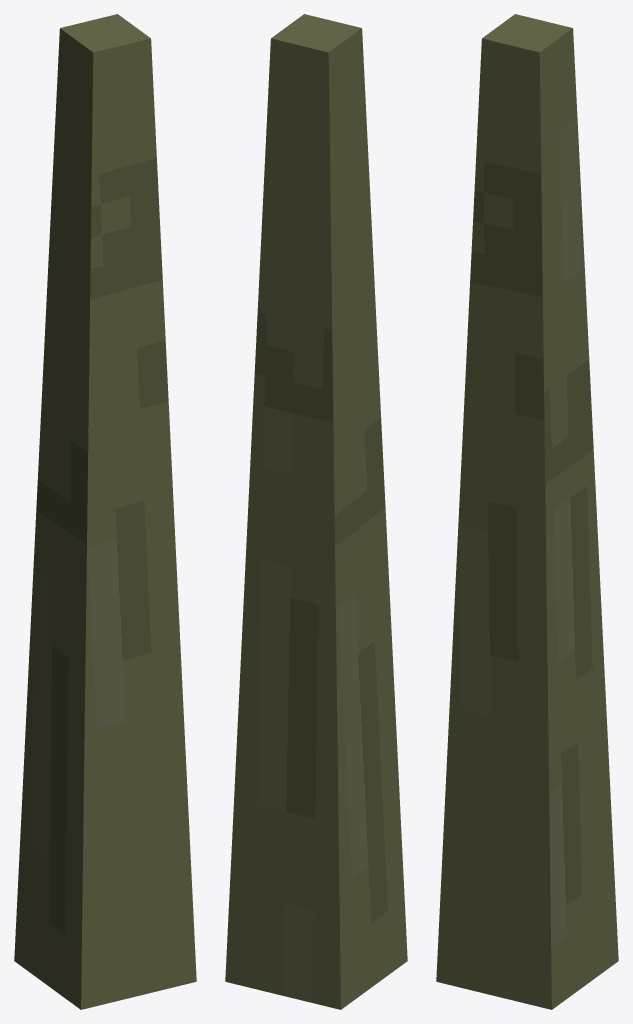
File: tree_low_lod.gltf
The picture shows the model from 3 angles, left to right: view 1: azimuth 30°, elevation 25°; view 2: azimuth 150°, elevation 25°; view 3: azimuth 330°, elevation 25°; orthographic projection.
Visible parts, largest first — view 1: trunk; view 2: trunk; view 3: trunk.
Part boxes in pixels (x1=…): trunk: x1=14, y1=14, x2=196, y2=1009; trunk: x1=225, y1=14, x2=407, y2=1009; trunk: x1=436, y1=14, x2=618, y2=1009.
Bounding box in the file's own units: 1 × 7.75 × 1.
1 material, 1 textured.
